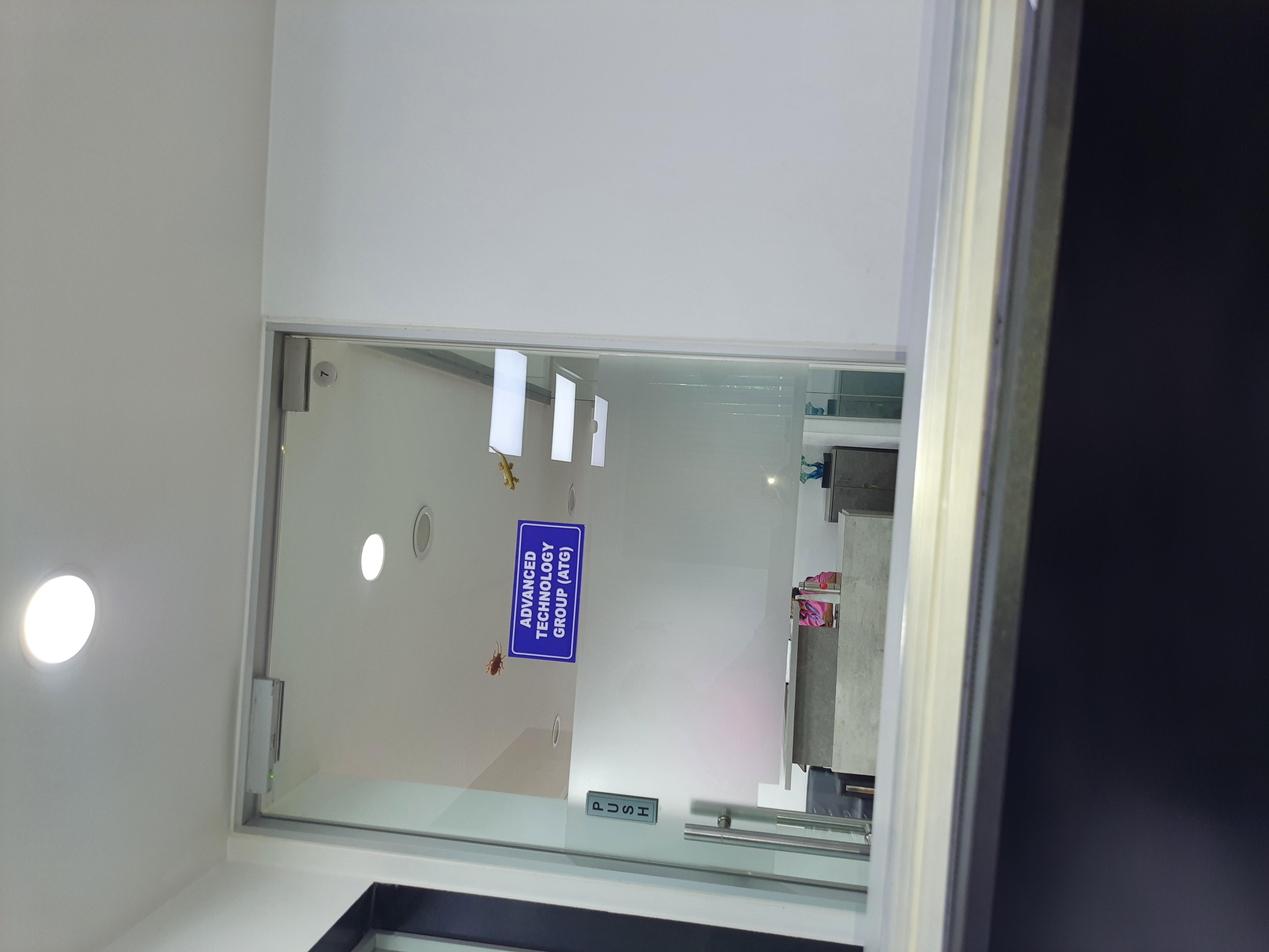cockroach: (356, 361, 413, 386)
lizard: (601, 369, 691, 399)
